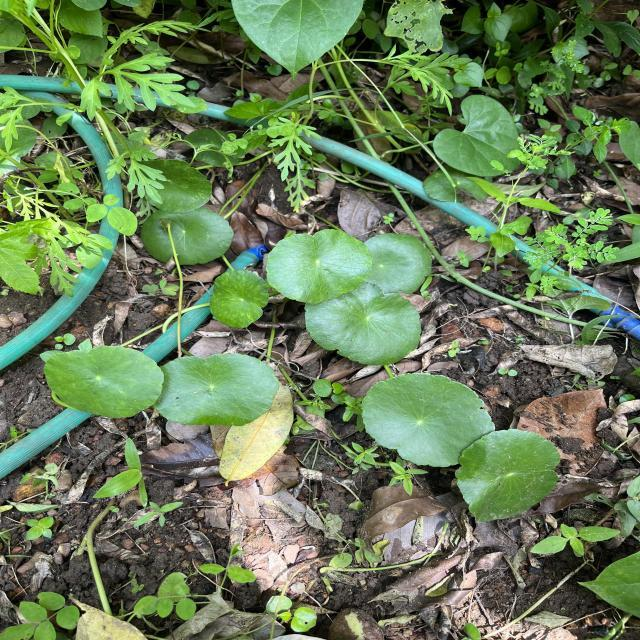Bacopa monnieri: (358, 370, 496, 470), (301, 280, 423, 368), (453, 427, 562, 524), (41, 343, 168, 421), (154, 352, 282, 427), (262, 226, 375, 306), (139, 203, 236, 267), (362, 230, 436, 298), (207, 268, 272, 330)
